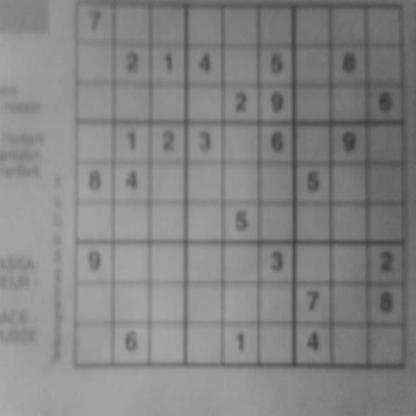sudoku: (70, 0, 412, 376)
